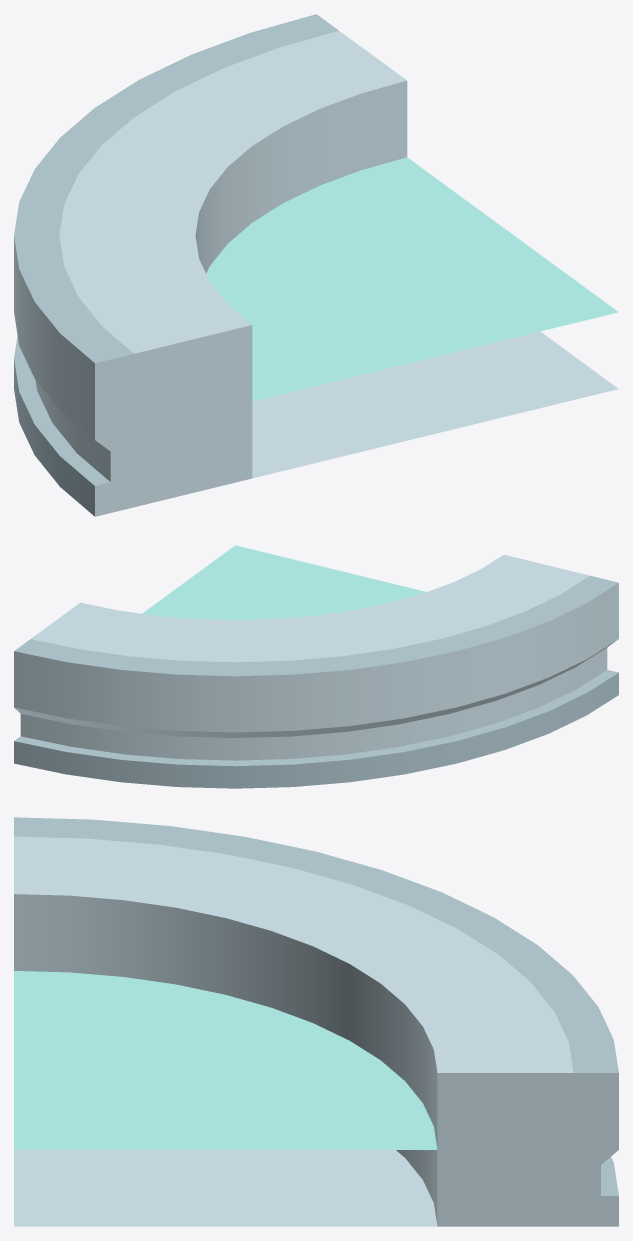
File: fountainCurved.fbx
3 renders of one model, top to bottom at view 1: azimuth 30°, elevation 25°; view 2: azimuth 150°, elevation 25°; view 3: azimuth 270°, elevation 25°, orthographic. The views are drawn at different scales.
Visible parts, largest first — view 1: fountainCurved, fountainCurved.001; view 2: fountainCurved, fountainCurved.001; view 3: fountainCurved, fountainCurved.001.
Part boxes in pixels (<box>): fountainCurved: <box>14,14,618,516</box>; fountainCurved.001: <box>206,157,618,401</box>; fountainCurved: <box>14,554,618,788</box>; fountainCurved.001: <box>142,545,426,619</box>; fountainCurved: <box>14,817,618,1226</box>; fountainCurved.001: <box>14,971,437,1149</box>.
Bounding box in the file's own units: 100 × 28 × 100.
